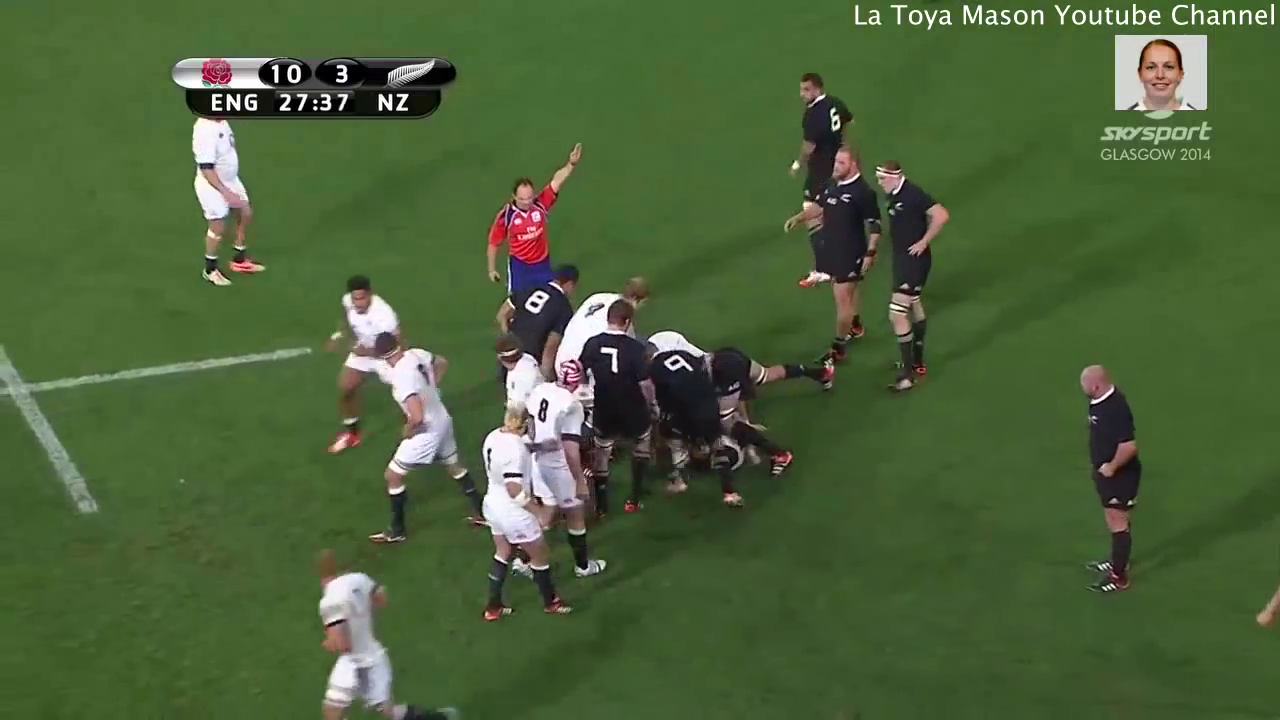player: (364, 328, 473, 544), (296, 551, 433, 720), (473, 405, 572, 623), (871, 160, 961, 397), (1069, 360, 1154, 605), (529, 355, 613, 583), (710, 340, 839, 481), (180, 120, 282, 298), (575, 297, 651, 514), (809, 149, 881, 376), (653, 344, 744, 504), (327, 270, 397, 452), (481, 138, 563, 279), (485, 262, 586, 351), (787, 71, 844, 182), (562, 273, 649, 339), (486, 332, 543, 411)
ruck: (565, 319, 841, 490)
